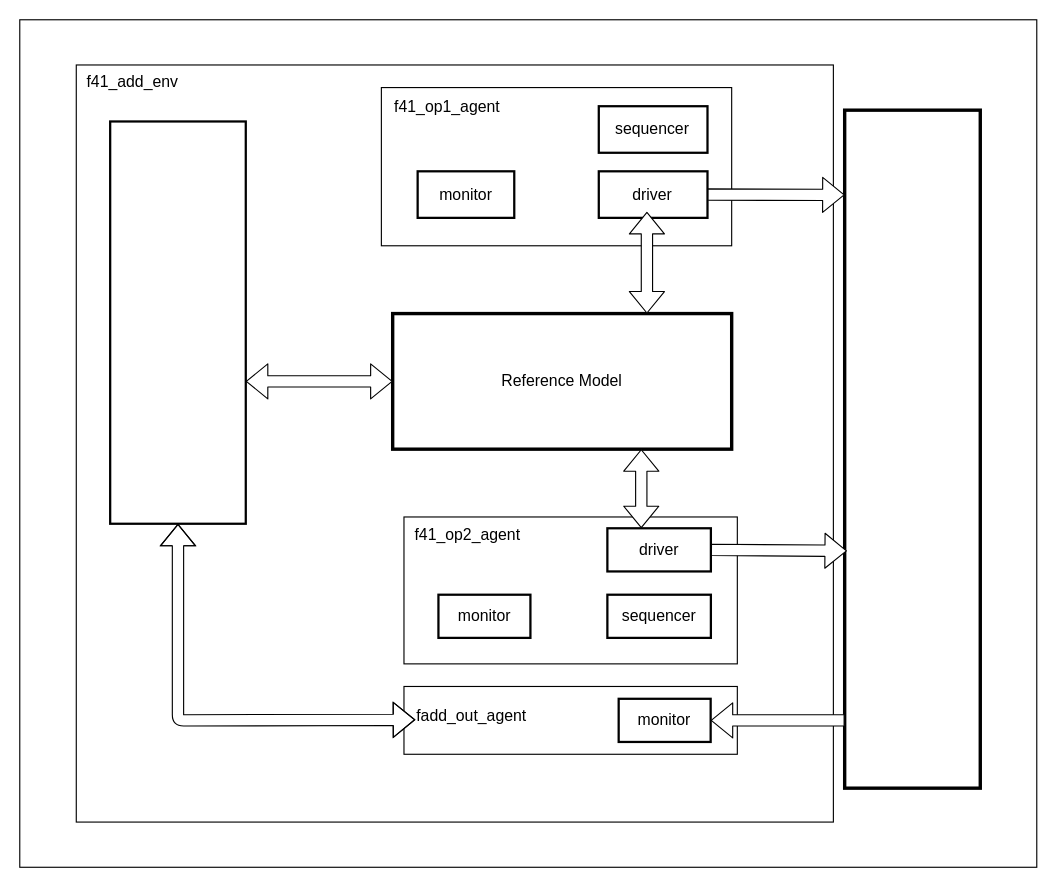
Some shapes in this 1057 by 887 pixel diagram are drawn without their labels. Here are the shapes that lost their labels. From the top down, the centre of each, then its label:
At point 177,322: "Scoreboard".
At point 911,448: "FADD".
